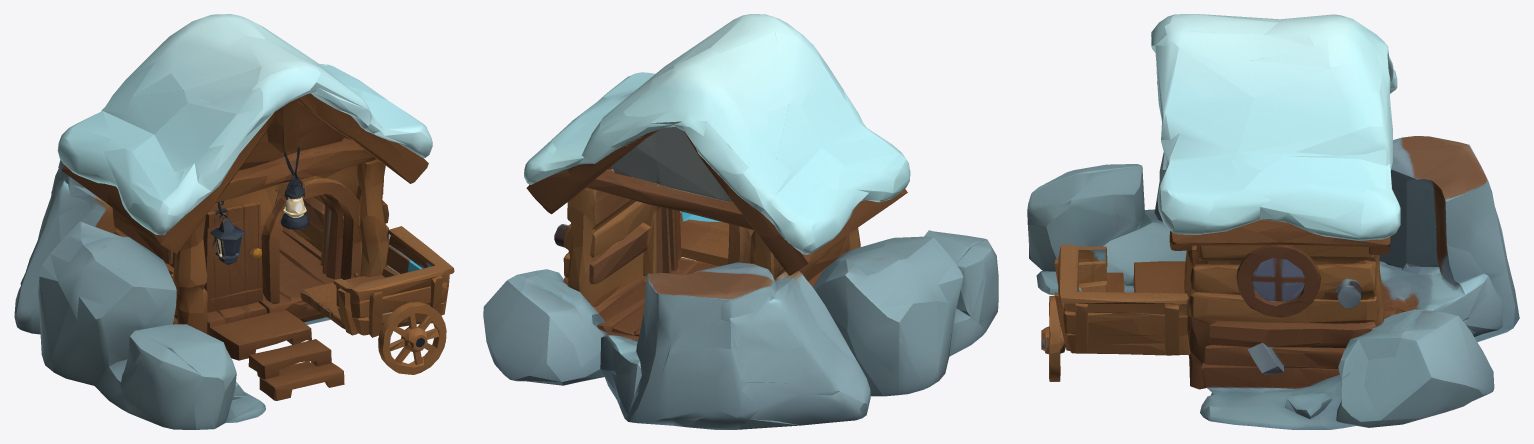
Rendered from miner_camp.glb.
3 views of the same model, side by side, from view 1: azimuth 30°, elevation 25°; view 2: azimuth 150°, elevation 25°; view 3: azimuth 270°, elevation 25° (orthographic). The views are drawn at different scales.
Size of the model in its own units: 1.63 by 1.19 by 1.65.
1 material, 1 textured.
